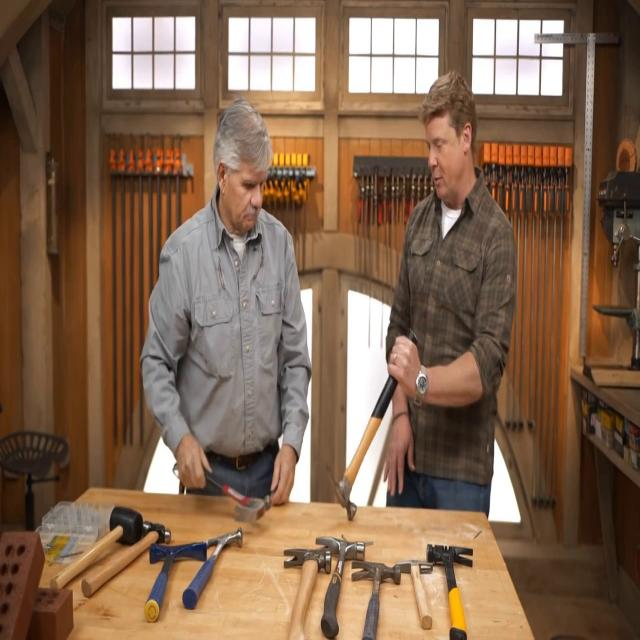hammer: (325, 330, 419, 522), (50, 505, 144, 594), (82, 520, 172, 596), (182, 527, 243, 609), (316, 536, 364, 638), (145, 541, 206, 620), (425, 542, 473, 640), (282, 546, 332, 640), (351, 560, 401, 640), (203, 465, 271, 523)
